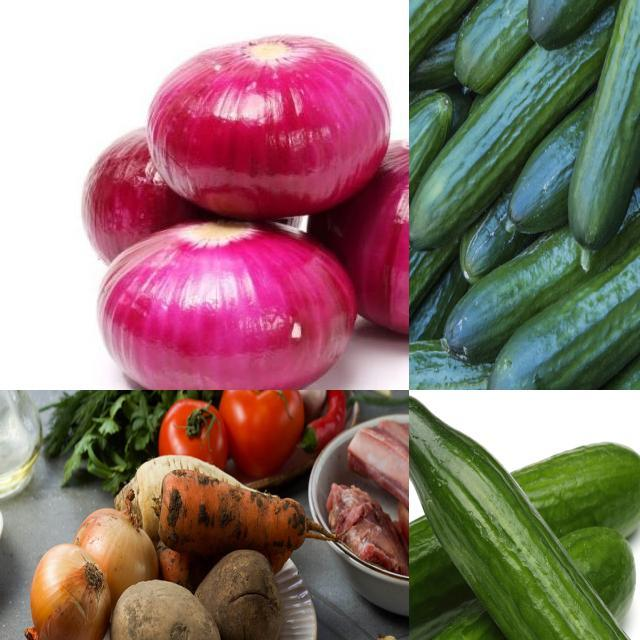carrot: (160, 466, 312, 564)
cucumber: (410, 393, 640, 640), (410, 1, 612, 248), (410, 438, 640, 640), (487, 133, 640, 391), (417, 520, 634, 640), (410, 1, 594, 114), (566, 1, 640, 257)
onion: (150, 27, 395, 224), (98, 220, 360, 391), (87, 116, 320, 263), (307, 136, 410, 350), (65, 496, 165, 597), (24, 544, 110, 640)
potato: (190, 554, 281, 640), (115, 580, 219, 640)
tomato: (225, 391, 300, 466), (162, 396, 221, 469)
